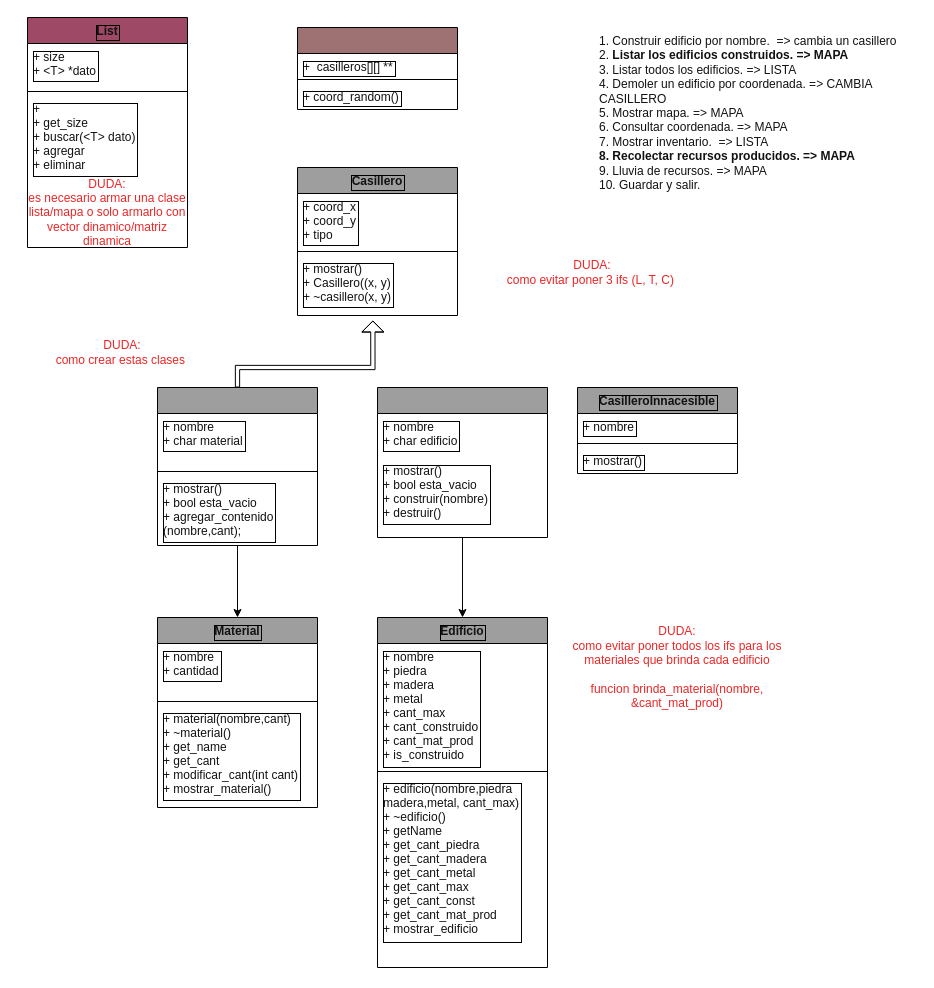
This 934x988 diagram has some shape labels left out. Each missing label, with the box of its shape:
CasilleroConstruible: (376, 386, 548, 538)
CasilleroTransitable: (156, 386, 318, 546)
Mapa: (296, 26, 458, 110)
